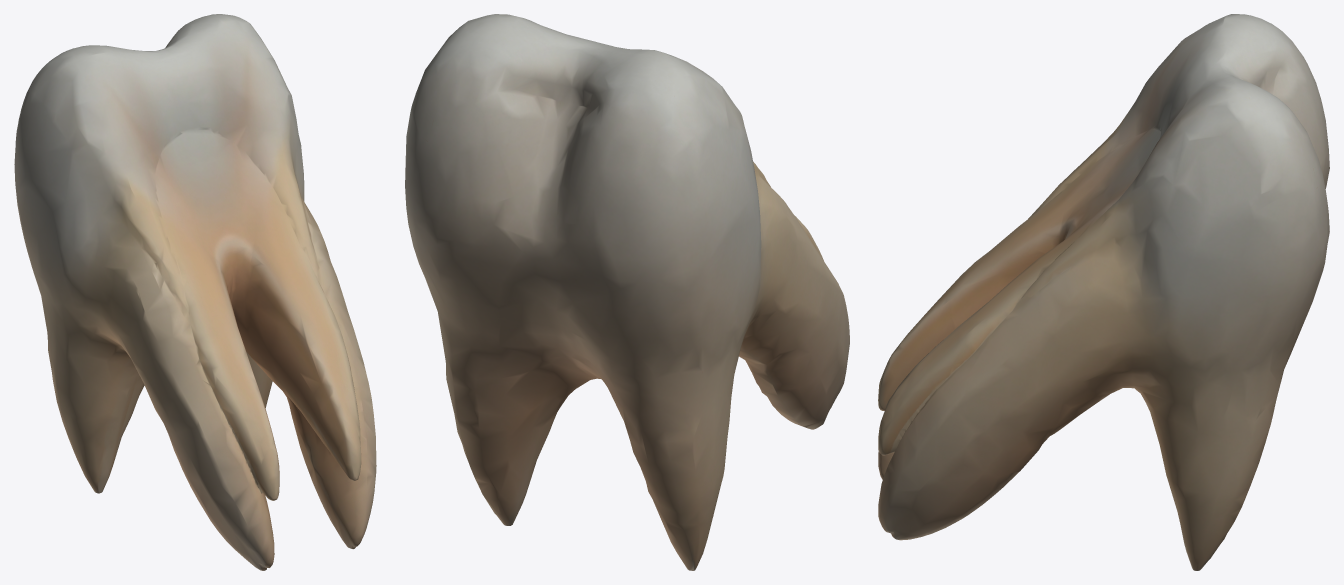
The model's file is Prop_Tooth.glb.
3 renders of one model, left to right at view 1: azimuth 30°, elevation 25°; view 2: azimuth 150°, elevation 25°; view 3: azimuth 270°, elevation 25°, orthographic. The views are drawn at different scales.
Size of the model in its own units: 1.18 by 1.9 by 1.63.
Materials: 1 (1 with a texture image).
